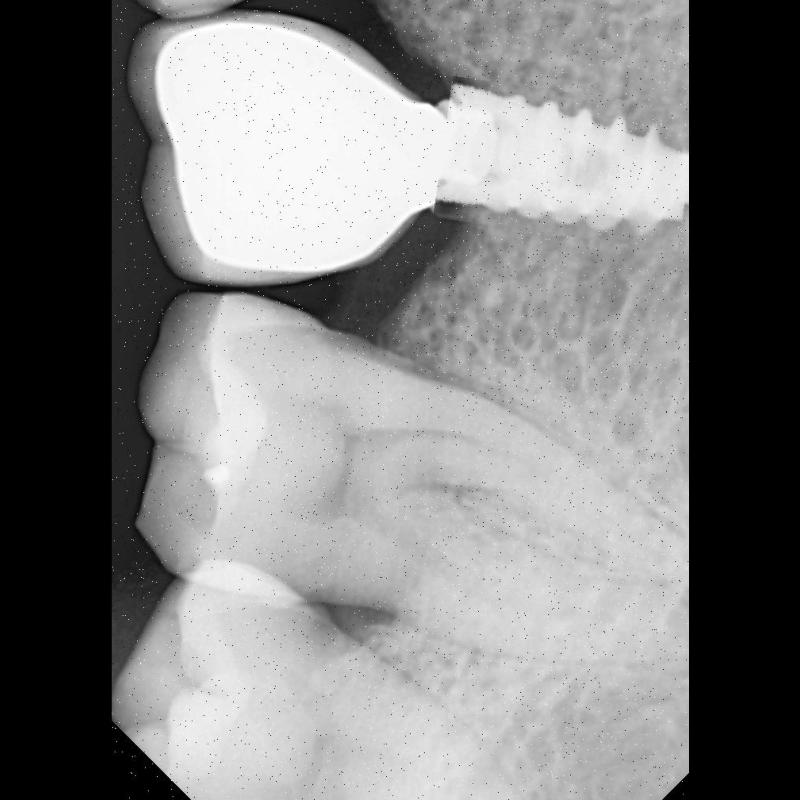NORIS: (437, 84, 689, 244)
